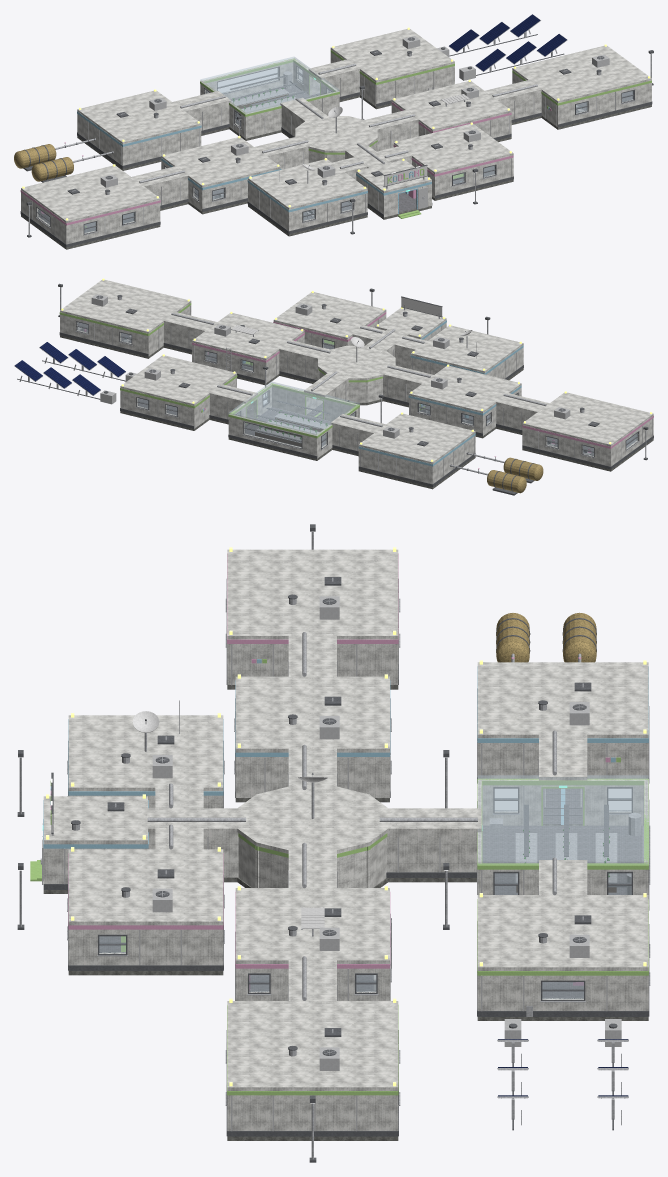
Rendered from lunar_station_kodland (1).glb.
The picture shows the model from 3 angles, top to bottom: view 1: azimuth 30°, elevation 25°; view 2: azimuth 150°, elevation 25°; view 3: azimuth 270°, elevation 25°; orthographic projection. The views are drawn at different scales.
Visible parts, largest first — view 1: ceil, hull, dark, glassceil, metal, prop, found, kgreen, solar, glass, kblue, foil (+3 smaller); view 2: ceil, hull, dark, glassceil, metal, prop, found, glass, kgreen, solar, foil, floor (+4 smaller); view 3: ceil, hull, glassceil, dark, metal, floor, prop, kgreen, glass, found, foil, kblue (+2 smaller).
Boxes of the visible parts, x1=… form: ceil: x1=21, y1=29, x2=651, y2=223; hull: x1=21, y1=52, x2=651, y2=244; dark: x1=20, y1=34, x2=653, y2=247; glassceil: x1=200, y1=56, x2=339, y2=114; metal: x1=28, y1=14, x2=651, y2=235; prop: x1=31, y1=36, x2=615, y2=243; found: x1=21, y1=95, x2=651, y2=249; kgreen: x1=85, y1=50, x2=651, y2=227; solar: x1=449, y1=14, x2=566, y2=71; glass: x1=38, y1=68, x2=633, y2=233; kblue: x1=77, y1=107, x2=549, y2=213; foil: x1=14, y1=144, x2=73, y2=181; ceil: x1=60, y1=280, x2=653, y2=464; hull: x1=60, y1=305, x2=653, y2=484; dark: x1=17, y1=283, x2=653, y2=495; glassceil: x1=228, y1=381, x2=359, y2=435; metal: x1=14, y1=287, x2=646, y2=475; prop: x1=78, y1=294, x2=652, y2=479; found: x1=60, y1=335, x2=653, y2=489; glass: x1=77, y1=322, x2=637, y2=456; kgreen: x1=59, y1=303, x2=425, y2=438; solar: x1=15, y1=342, x2=125, y2=395; foil: x1=487, y1=457, x2=543, y2=493; floor: x1=78, y1=322, x2=636, y2=455; ceil: x1=43, y1=549, x2=648, y2=1090; hull: x1=43, y1=644, x2=648, y2=1130; glassceil: x1=477, y1=775, x2=648, y2=864; dark: x1=17, y1=524, x2=649, y2=1162; metal: x1=19, y1=532, x2=650, y2=1159; floor: x1=99, y1=788, x2=642, y2=997; prop: x1=42, y1=593, x2=648, y2=1131; kgreen: x1=30, y1=659, x2=648, y2=1095; glass: x1=99, y1=789, x2=631, y2=999; found: x1=43, y1=685, x2=648, y2=1140; foil: x1=496, y1=612, x2=596, y2=662; kblue: x1=43, y1=659, x2=648, y2=848.
Bounding box in the file's own units: 81.5 × 6.62 × 37.94.
Materials: 24 (19 with a texture image).
